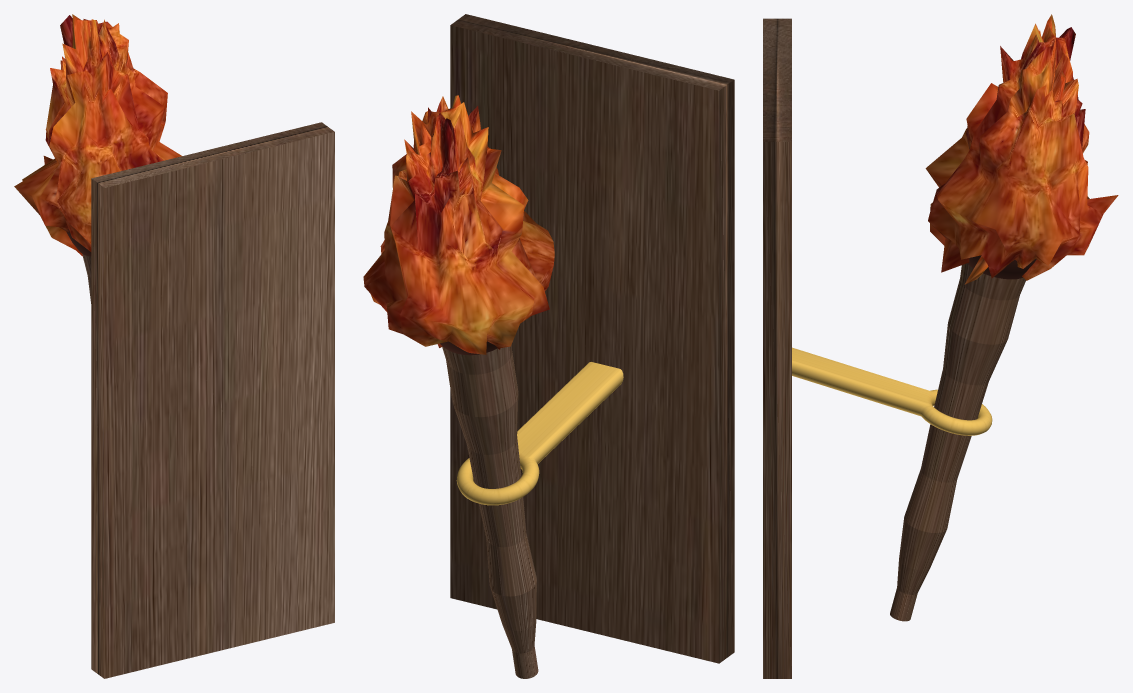
Rendered from Obor  KonZt.glb.
3 renders of one model, left to right at view 1: azimuth 30°, elevation 25°; view 2: azimuth 150°, elevation 25°; view 3: azimuth 270°, elevation 25°, orthographic. The views are drawn at different scales.
Parts seen in each view (by area): view 1: Cube, Sphere; view 2: Cube, Sphere, Cylinder, Torus; view 3: Sphere, Cube, Cylinder, Torus, Sphere.001.
Part boxes in pixels (x1,y1,x2,y2): Cube: [91, 122, 334, 678]; Sphere: [14, 14, 182, 256]; Cube: [450, 14, 734, 663]; Sphere: [363, 95, 554, 354]; Cylinder: [442, 344, 538, 678]; Torus: [456, 362, 623, 505]; Sphere: [925, 14, 1118, 284]; Cube: [763, 18, 791, 678]; Cylinder: [890, 263, 1025, 621]; Torus: [792, 347, 992, 435]; Sphere.001: [967, 255, 1036, 279].
Bounding box in the file's own units: 9.3 × 21.03 × 11.37.
5 materials, 4 textured.
